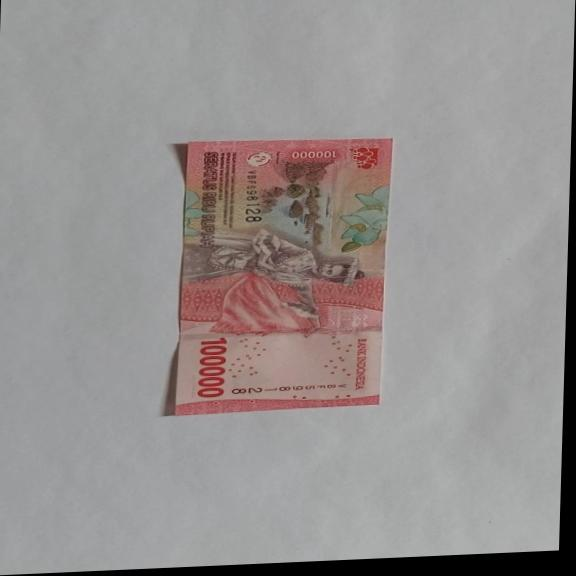Kertas: (167, 132, 394, 416), (195, 336, 230, 399)
